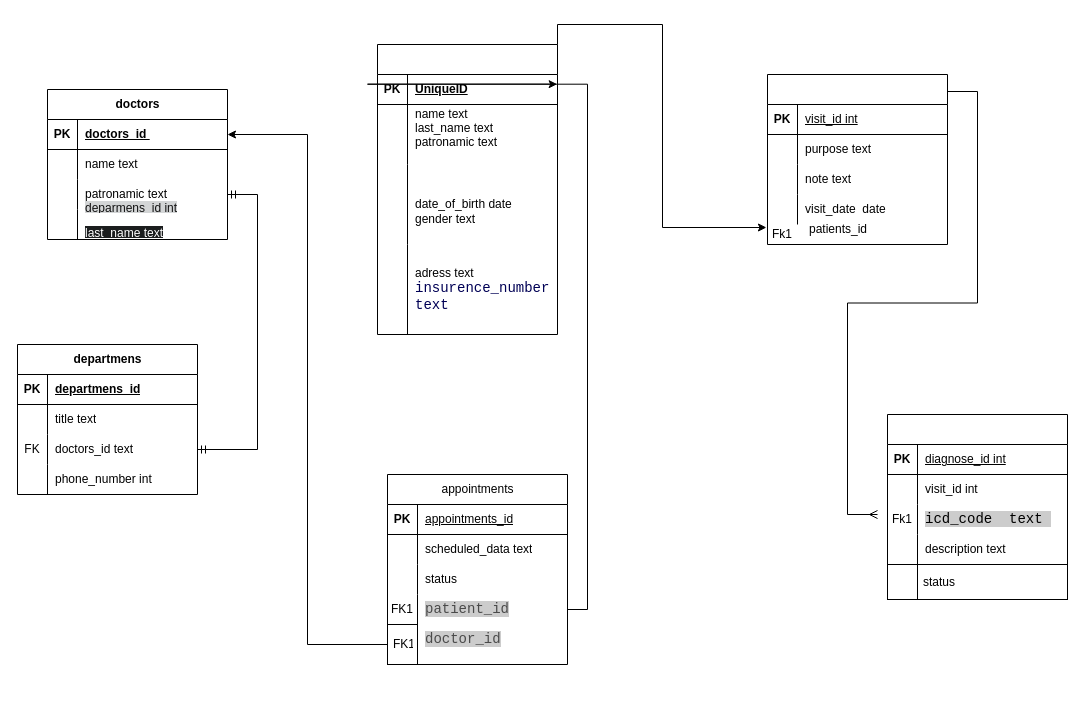
Some shapes in this 1085 by 703 pixel diagram are drawn without their labels. The box of each missing label's shape, as (x1, y1, x2, y2) in pixels:
diagnoses: (886, 414, 1068, 564)
patients: (376, 44, 558, 334)
visits: (766, 74, 948, 244)
